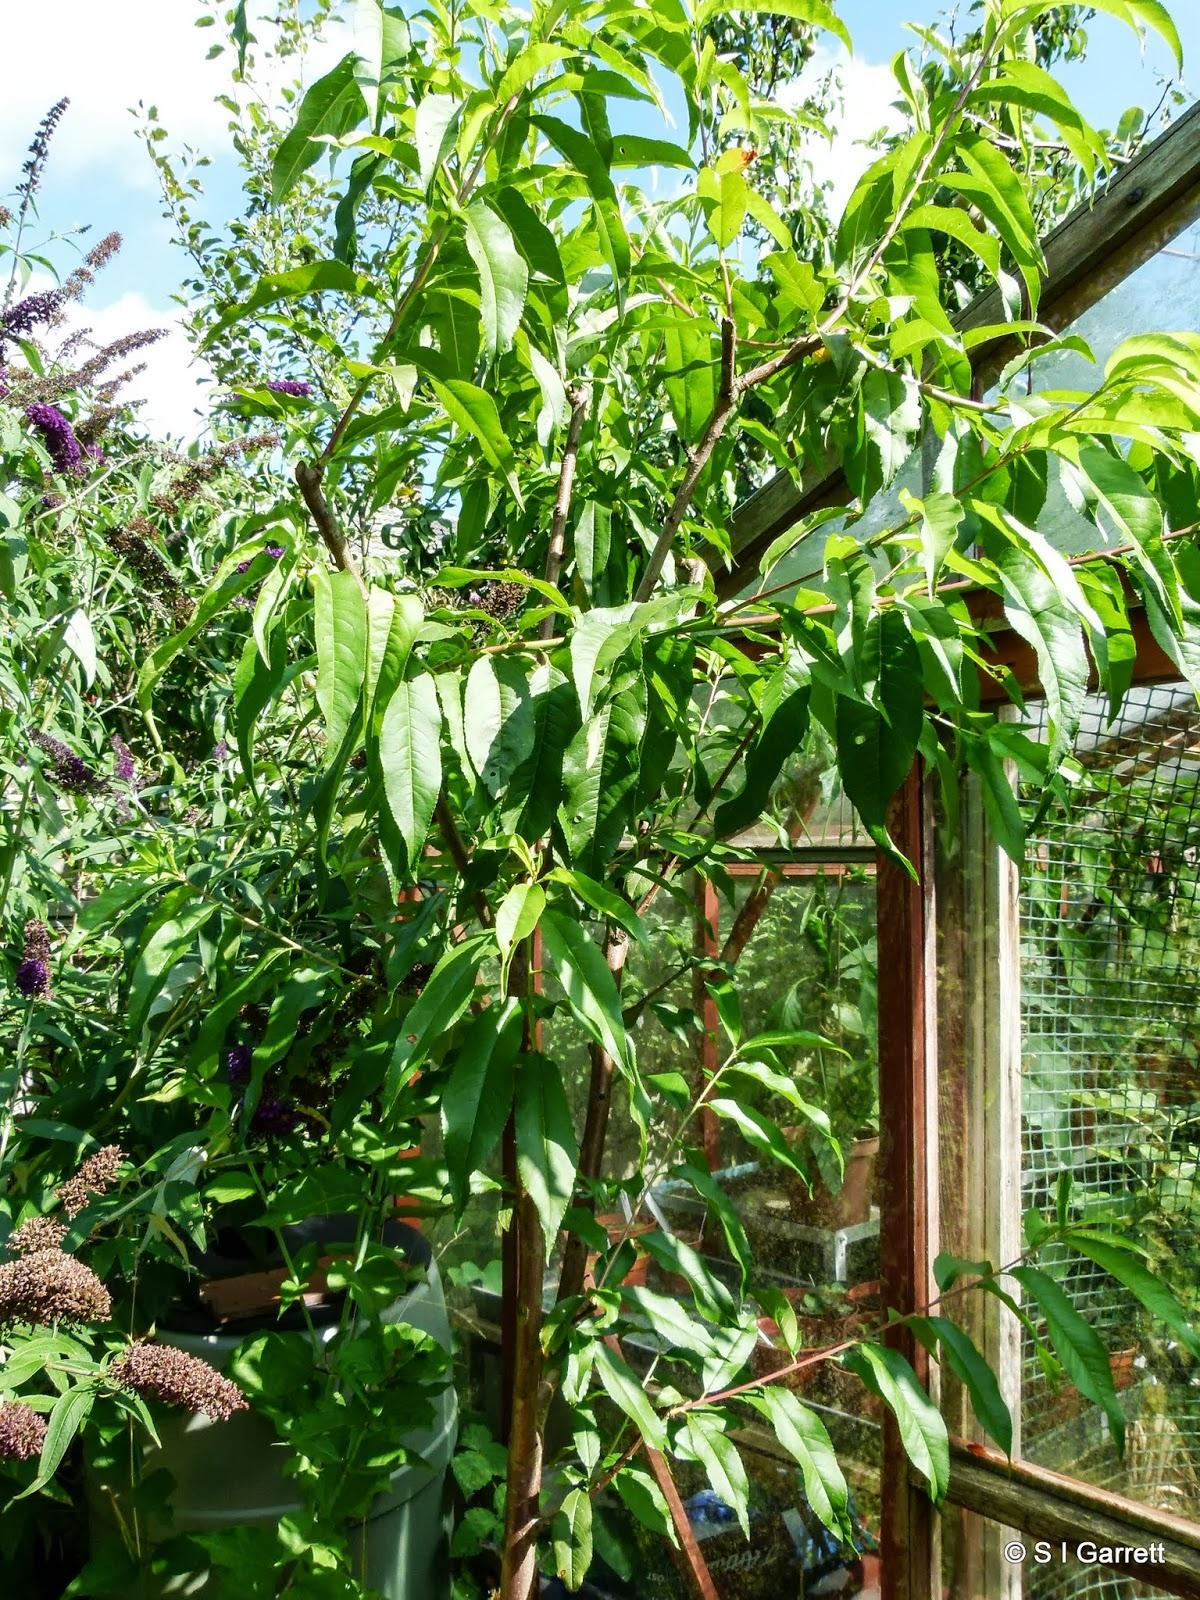Peach leaf: (534, 918, 676, 1153), (724, 1387, 892, 1558), (839, 1346, 983, 1529), (429, 997, 527, 1228), (374, 677, 466, 900), (997, 581, 1099, 766), (453, 191, 542, 370), (319, 576, 374, 794)
